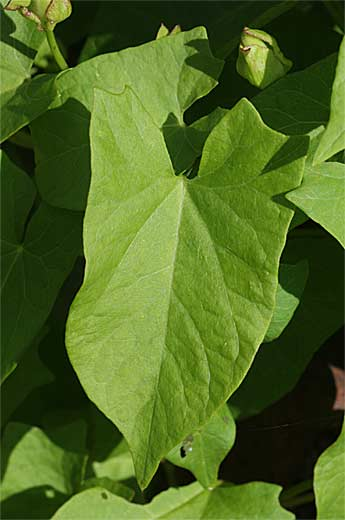haagwinde: (73, 70, 315, 488)
